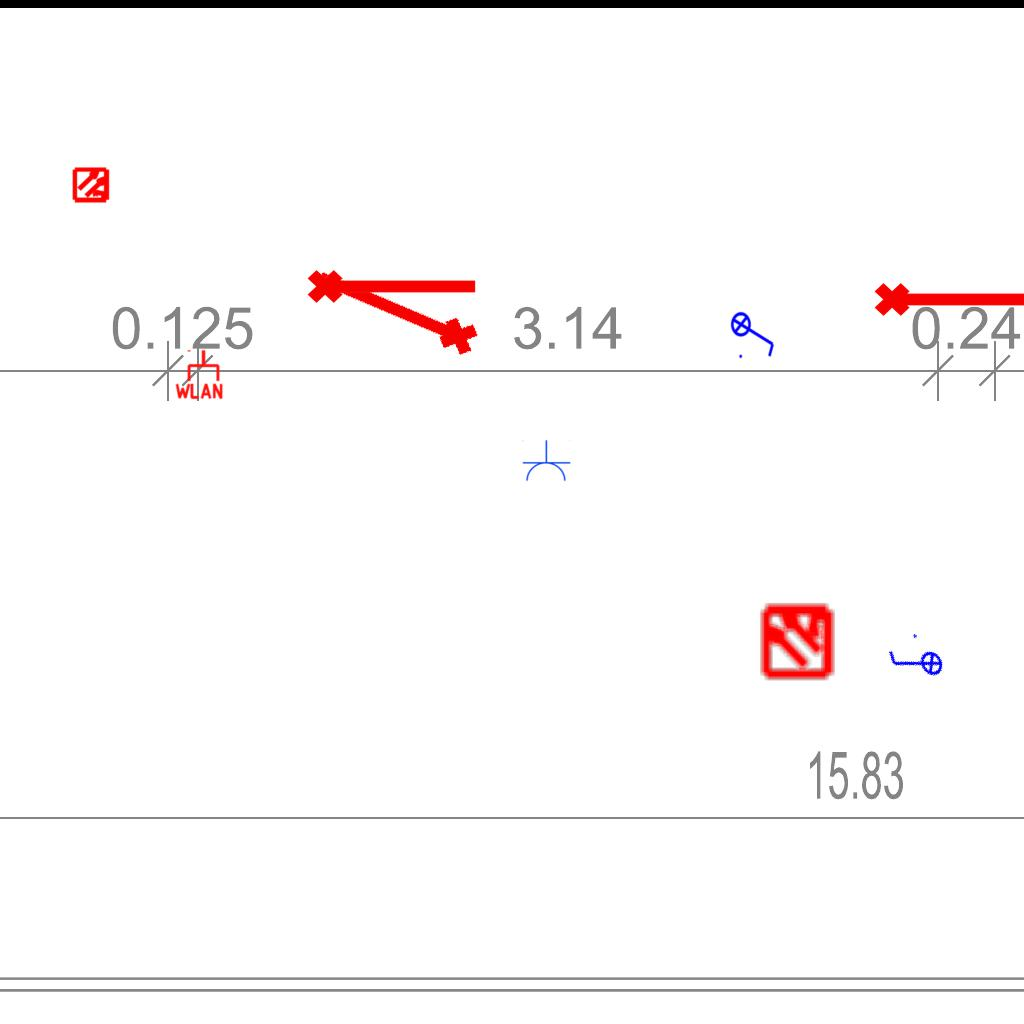ASR_Ansaugoeffnung: (305, 256, 485, 368), (305, 261, 481, 307), (872, 274, 1024, 320)
Ausschalter_beleuchtet: (880, 626, 952, 700), (730, 305, 778, 361)
OT_Multisensormelder_(Kombination_RMO_WMD): (741, 583, 854, 696), (64, 157, 120, 213)
Schukosteckdose_einfach: (521, 440, 571, 483)
WLAN: (173, 348, 225, 400)
